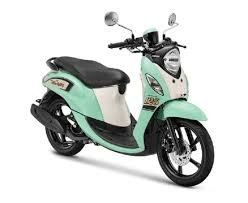motor: (38, 29, 221, 187)
